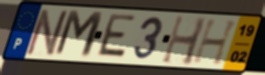3: (131, 15, 165, 62)
E: (93, 12, 138, 61)
H: (159, 14, 209, 67), (191, 18, 241, 67)
M: (51, 9, 107, 61)
N: (23, 8, 73, 58)
